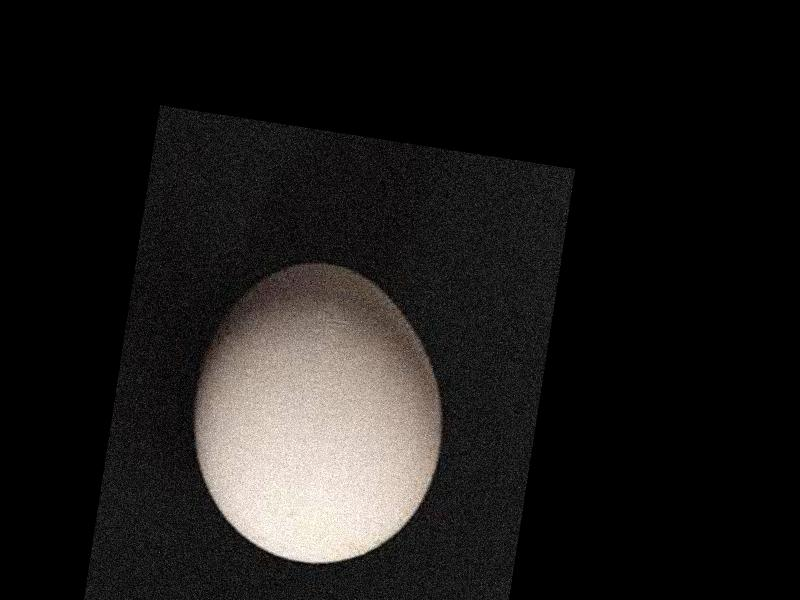Eggs: (175, 248, 463, 582)
